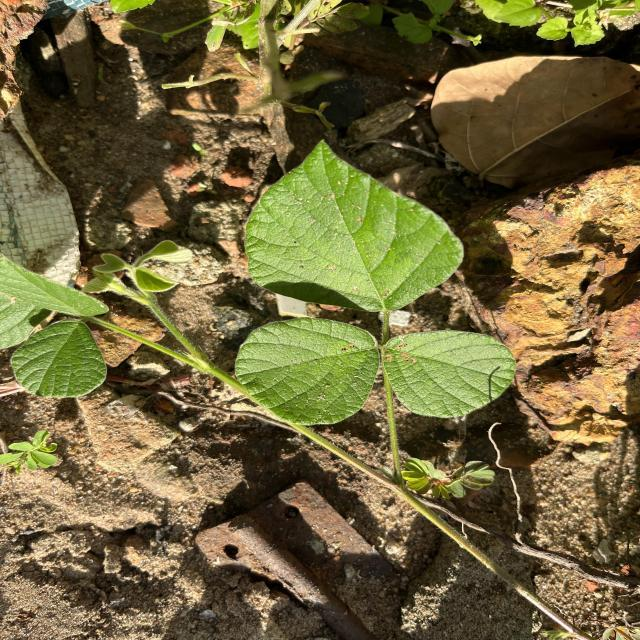Pseudarthria viscida: (230, 136, 520, 427)
